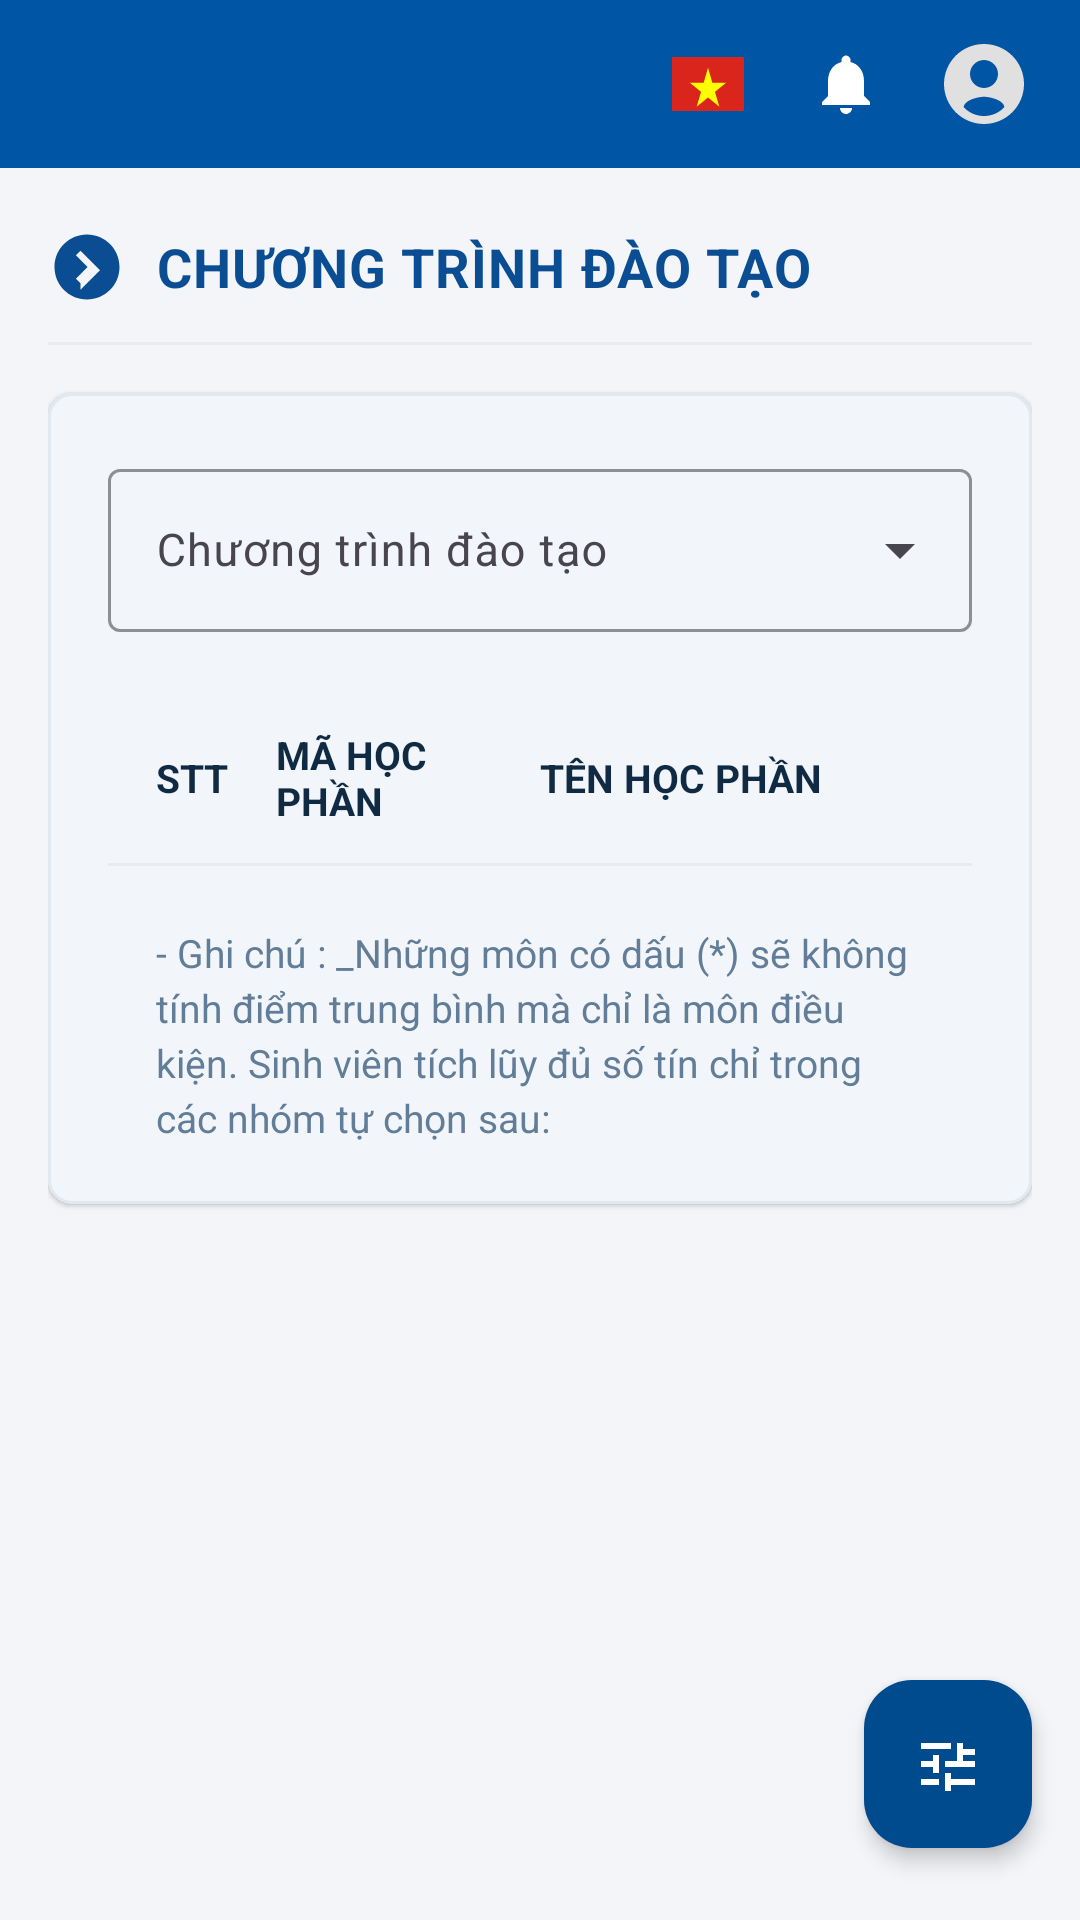

Where icons sit on this 1080 x 1920 app screen, as [x1,y1,x2,y2]:
account: [944,44,1024,124]
arrow circle right: [54,234,120,300]
bell: [822,55,870,114]
flag vn: [672,57,744,111]
tune fab: [864,1680,1032,1848]
